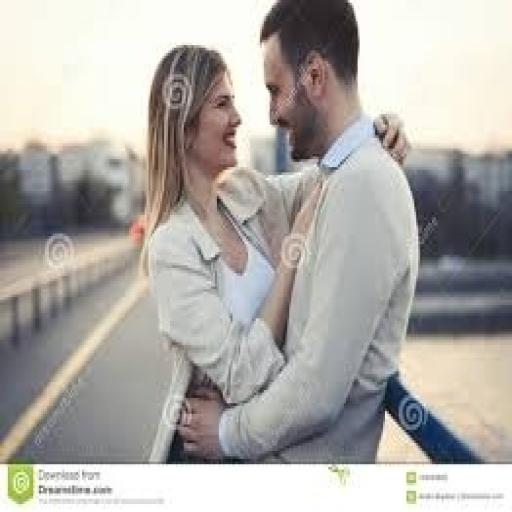hugging: (143, 2, 420, 462)
